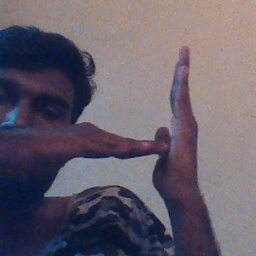Z: (98, 36, 213, 198)
